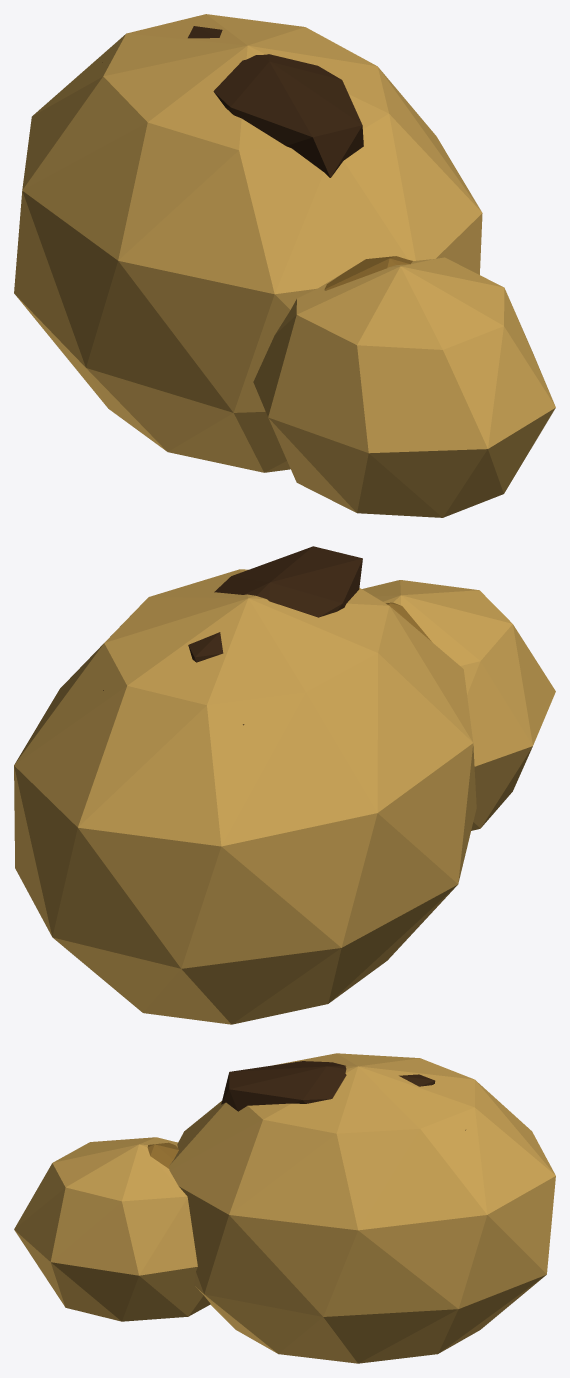
Rendered from spider_3_body.glb.
The picture shows the model from 3 angles, top to bottom: view 1: azimuth 30°, elevation 25°; view 2: azimuth 150°, elevation 25°; view 3: azimuth 270°, elevation 25°; orthographic projection. The views are drawn at different scales.
Parts seen in each view (by area): view 1: spider_3_body; view 2: spider_3_body; view 3: spider_3_body.
Part boxes in pixels (x1=…): spider_3_body: x1=14, y1=14, x2=555, y2=517; spider_3_body: x1=14, y1=546, x2=555, y2=1024; spider_3_body: x1=14, y1=1053, x2=555, y2=1363.
Bounding box in the file's own units: 0.3964 × 0.4 × 0.6929.
